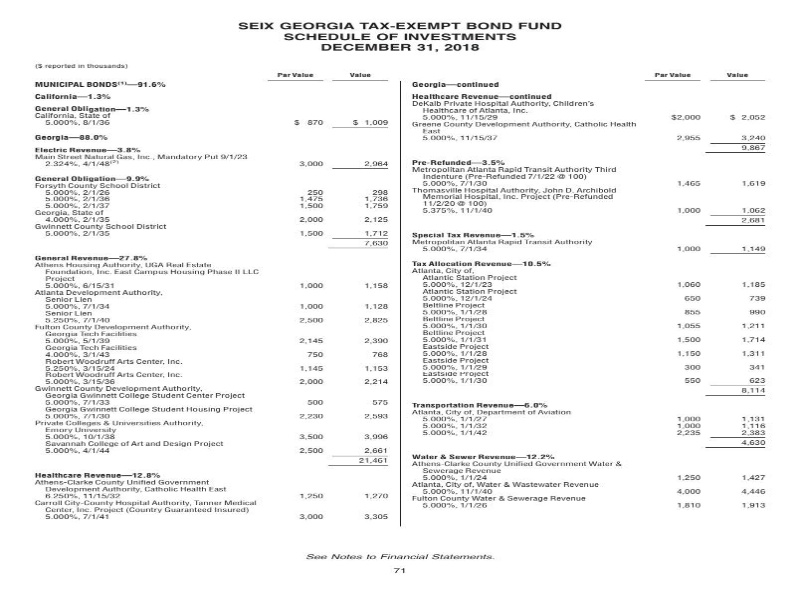table: (19, 53, 411, 551), (391, 63, 785, 536)
